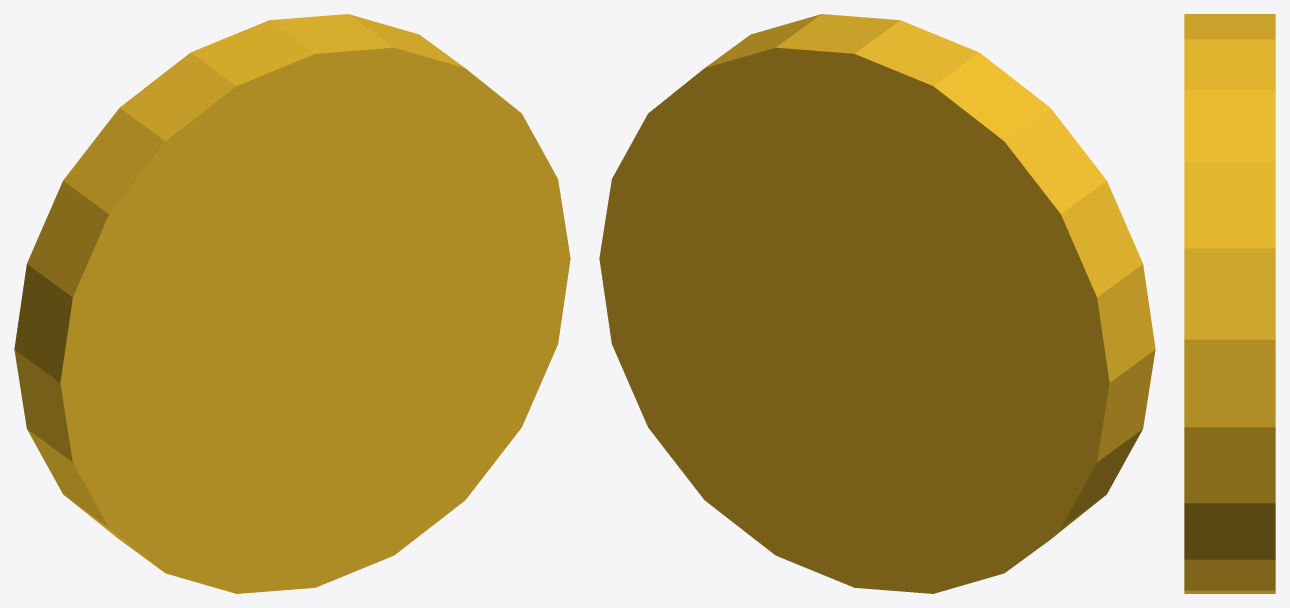
The model's file is coin.glb.
The picture shows the model from 3 angles, left to right: view 1: azimuth 30°, elevation 25°; view 2: azimuth 150°, elevation 25°; view 3: azimuth 270°, elevation 25°; orthographic projection.
Visible parts, largest first — view 1: Coin; view 2: Coin; view 3: Coin.
Boxes of the visible parts, bbox=[...] form: Coin: bbox=[14, 14, 570, 593]; Coin: bbox=[599, 14, 1155, 593]; Coin: bbox=[1184, 14, 1275, 593].
Bounding box in the file's own units: 0.32 × 0.32 × 0.05.
